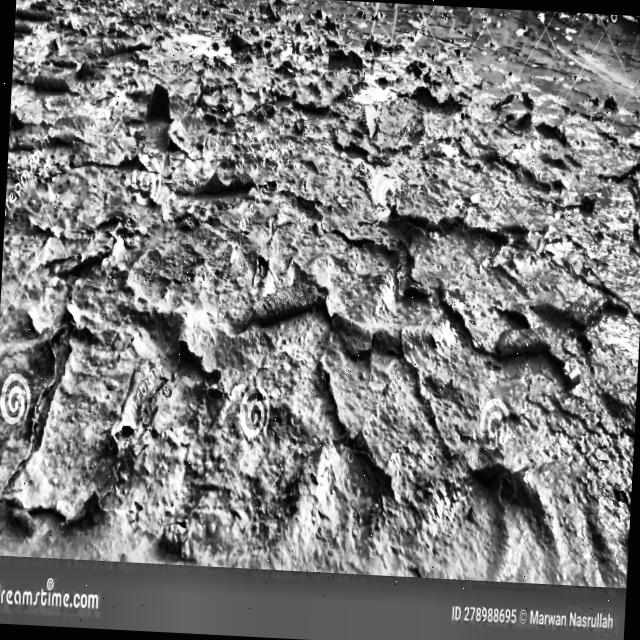slippery ground: (105, 0, 640, 422)
